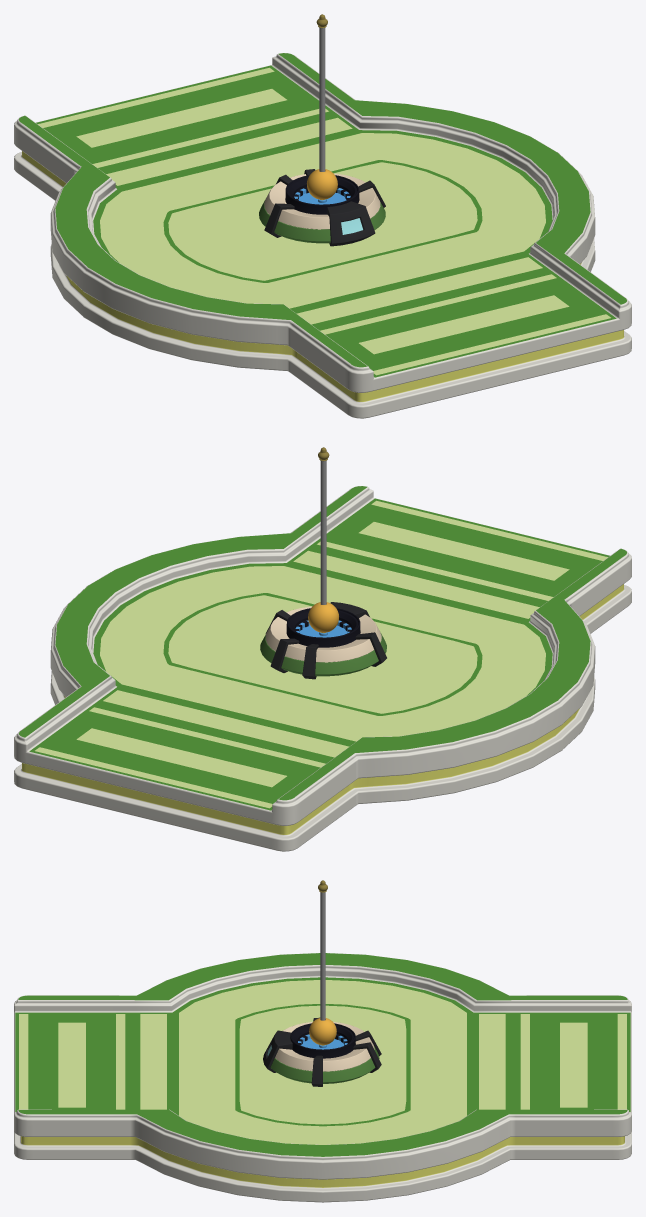
File: SM_Checkpoint_01.fbx
The picture shows the model from 3 angles, top to bottom: view 1: azimuth 30°, elevation 25°; view 2: azimuth 150°, elevation 25°; view 3: azimuth 270°, elevation 25°; orthographic projection. The views are drawn at different scales.
Parts seen in each view (by area): view 1: SM_Checkpoint_Platform_01; view 2: SM_Checkpoint_Platform_01; view 3: SM_Checkpoint_Platform_01.
Boxes of the visible parts, x1,y1,x2,y2 form: SM_Checkpoint_Platform_01: (14, 14, 631, 418); SM_Checkpoint_Platform_01: (14, 447, 631, 851); SM_Checkpoint_Platform_01: (14, 880, 631, 1202).
Bounding box in the file's own units: 2603 × 1276 × 3275.
